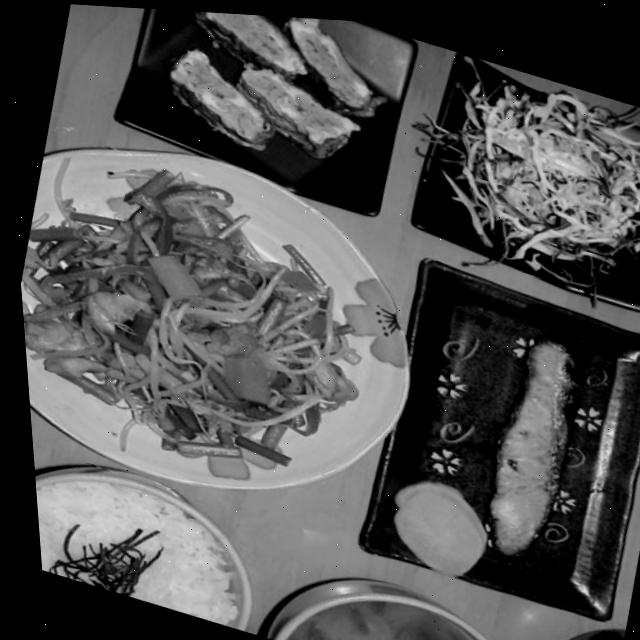熟制海鲜: (434, 306, 602, 588)
